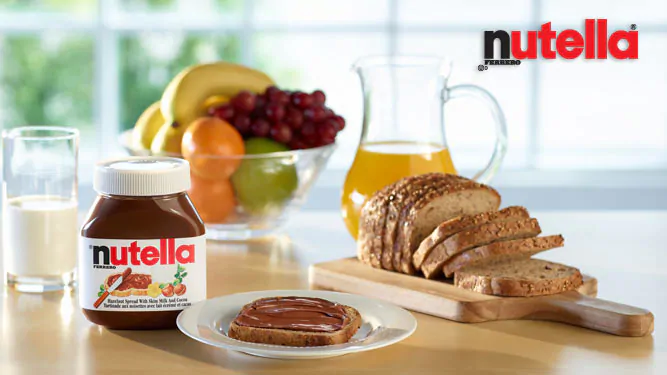nutella: (81, 158, 209, 331)
